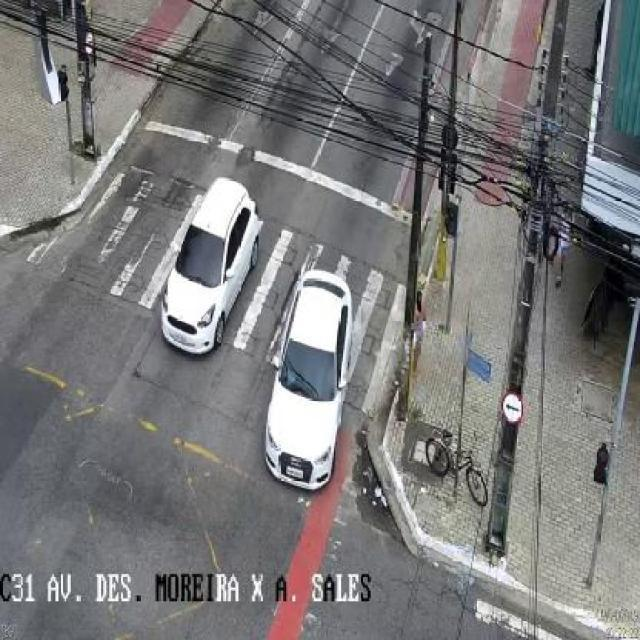Car: (262, 265, 356, 494), (160, 175, 262, 356)
